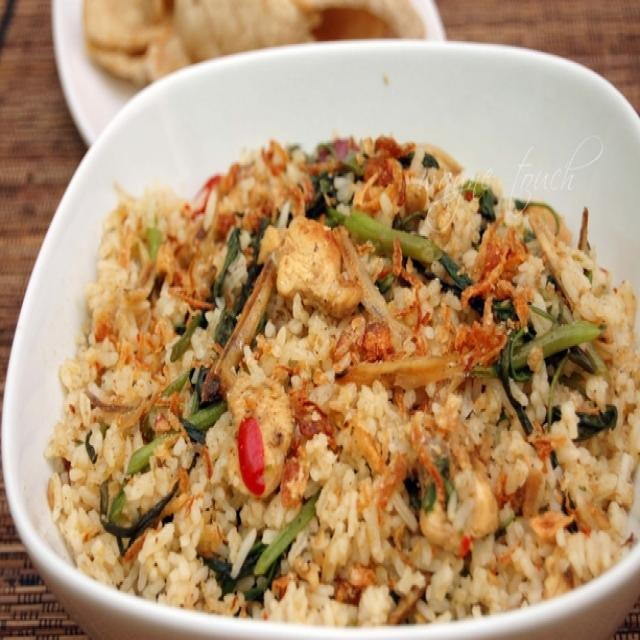米饭主食: (25, 52, 619, 602)
